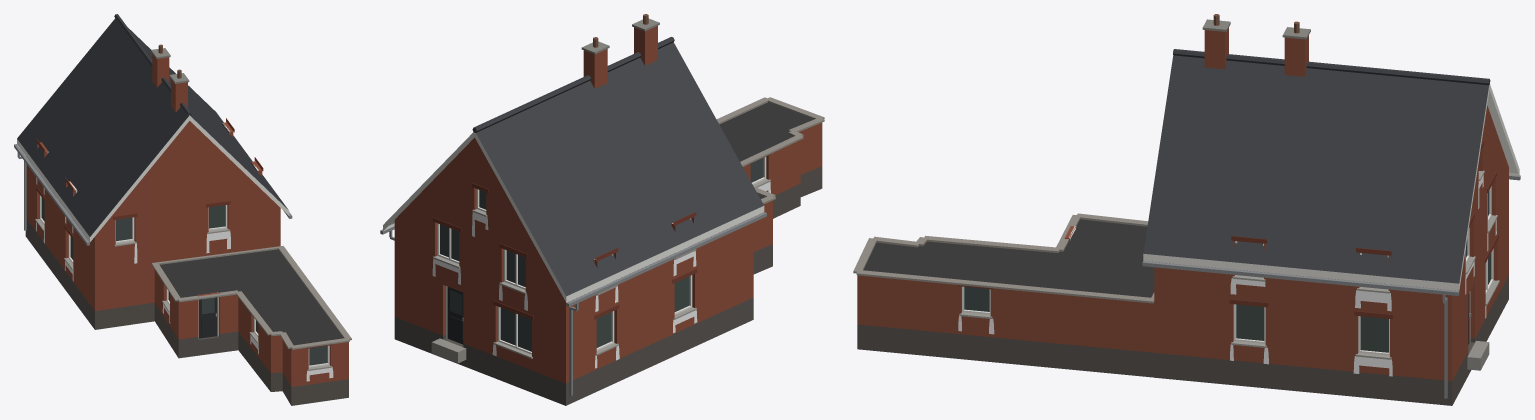
File: vh_red_chimneys.glb
The picture shows the model from 3 angles, left to right: view 1: azimuth 30°, elevation 25°; view 2: azimuth 150°, elevation 25°; view 3: azimuth 270°, elevation 25°; orthographic projection. The views are drawn at different scales.
Visible parts, largest first — view 1: vh_brick, vh_roof, vh_stone, vh_trim, vh_frames_small, vh_glass, vh_streaks_small; view 2: vh_roof, vh_brick, vh_trim, vh_stone, vh_glass, vh_frames_small, vh_streaks_small; view 3: vh_roof, vh_brick, vh_trim, vh_stone, vh_frames_small, vh_glass, vh_streaks_small.
Boxes of the visible parts, box(x1,y1,x2,y2) form: vh_brick: box(26, 54, 348, 386); vh_roof: box(17, 14, 288, 236); vh_stone: box(35, 44, 351, 370); vh_trim: box(17, 115, 348, 405); vh_frames_small: box(14, 123, 329, 367); vh_glass: box(41, 123, 327, 365); vh_streaks_small: box(36, 177, 333, 381); vh_roof: box(472, 37, 763, 296); vh_brick: box(394, 26, 822, 383); vh_trim: box(383, 132, 822, 405); vh_stone: box(431, 14, 824, 363); vh_glass: box(440, 158, 763, 351); vh_frames_small: box(380, 157, 766, 395); vh_streaks_small: box(432, 182, 770, 368); vh_roof: box(1143, 49, 1490, 283); vh_brick: box(857, 28, 1508, 380); vh_trim: box(857, 84, 1519, 405); vh_stone: box(853, 14, 1499, 370); vh_frames_small: box(962, 175, 1520, 398); vh_glass: box(964, 190, 1491, 352); vh_streaks_small: box(958, 175, 1496, 376).
Bounding box in the file's own units: 11.46 × 11.33 × 21.95.
